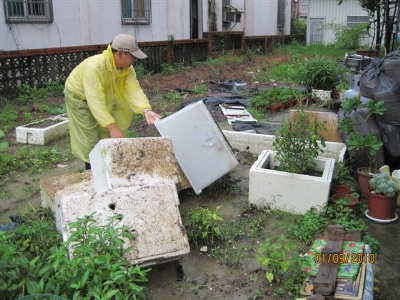bowl: (344, 54, 365, 68)
box: (155, 100, 240, 194)
plastic_bag: (359, 48, 400, 158)
plate: (364, 208, 399, 223)
styrofoam: (54, 179, 191, 268), (249, 150, 334, 216), (89, 137, 191, 190), (15, 116, 68, 146)
